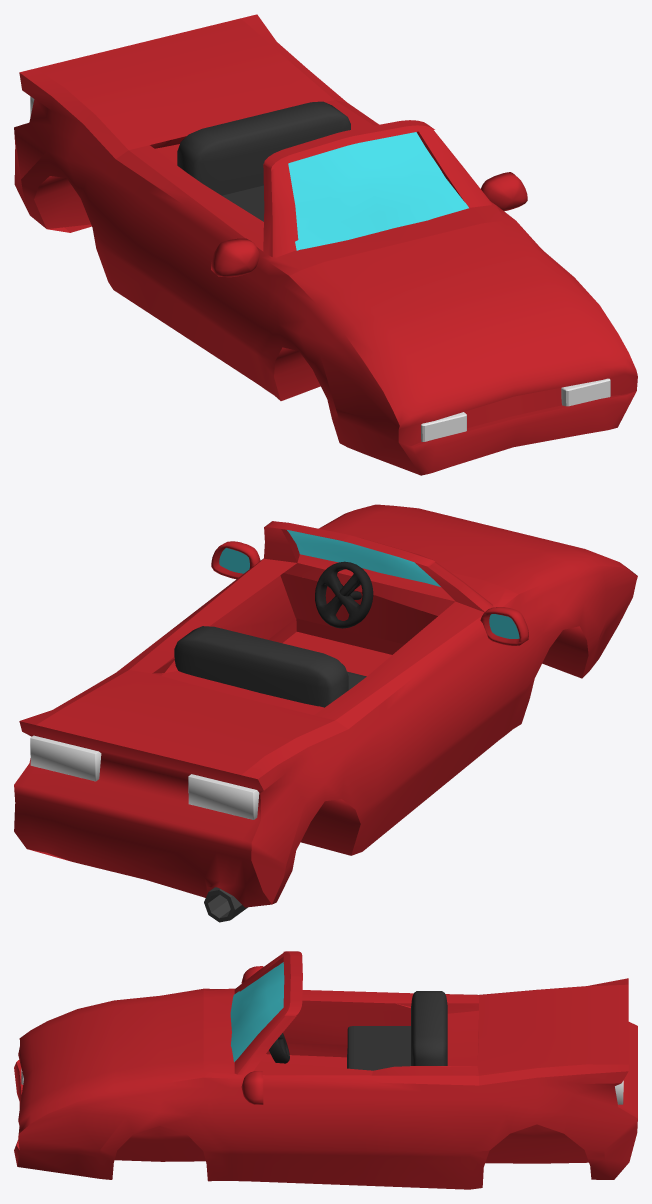
Rendered from Auto_enemigo.fbx.
3 renders of one model, top to bottom at view 1: azimuth 30°, elevation 25°; view 2: azimuth 150°, elevation 25°; view 3: azimuth 270°, elevation 25°, orthographic. The views are drawn at different scales.
Parts seen in each view (by area): view 1: Cube, Plane, Cube.001, Cylinder.001, Plane.002, Plane.001; view 2: Cube, Cube.001, Plane, Cylinder, Plane.003, Plane.004, Cylinder.001, Plane.005, Cylinder.002; view 3: Cube, Plane, Cube.001, Cylinder.001, Cylinder.
Part boxes in pixels (<box>): Cube: <box>14,14,637,475</box>; Plane: <box>288,132,468,250</box>; Cube.001: <box>177,101,350,195</box>; Cylinder.001: <box>211,172,527,277</box>; Plane.002: <box>561,378,610,406</box>; Plane.001: <box>421,412,466,441</box>; Cube: <box>14,504,637,907</box>; Cube.001: <box>174,626,348,707</box>; Plane: <box>287,530,440,586</box>; Cylinder: <box>315,561,373,628</box>; Plane.003: <box>188,774,259,819</box>; Plane.004: <box>30,735,101,781</box>; Cylinder.001: <box>211,541,528,645</box>; Plane.005: <box>219,548,519,638</box>; Cylinder.002: <box>204,887,247,922</box>; Cube: <box>14,951,637,1189</box>; Plane: <box>230,962,284,1061</box>; Cube.001: <box>411,991,447,1065</box>; Cylinder.001: <box>241,966,263,1104</box>; Cylinder: <box>269,1033,289,1063</box>.
Bounding box in the file's own units: 609 × 396 × 1317.
